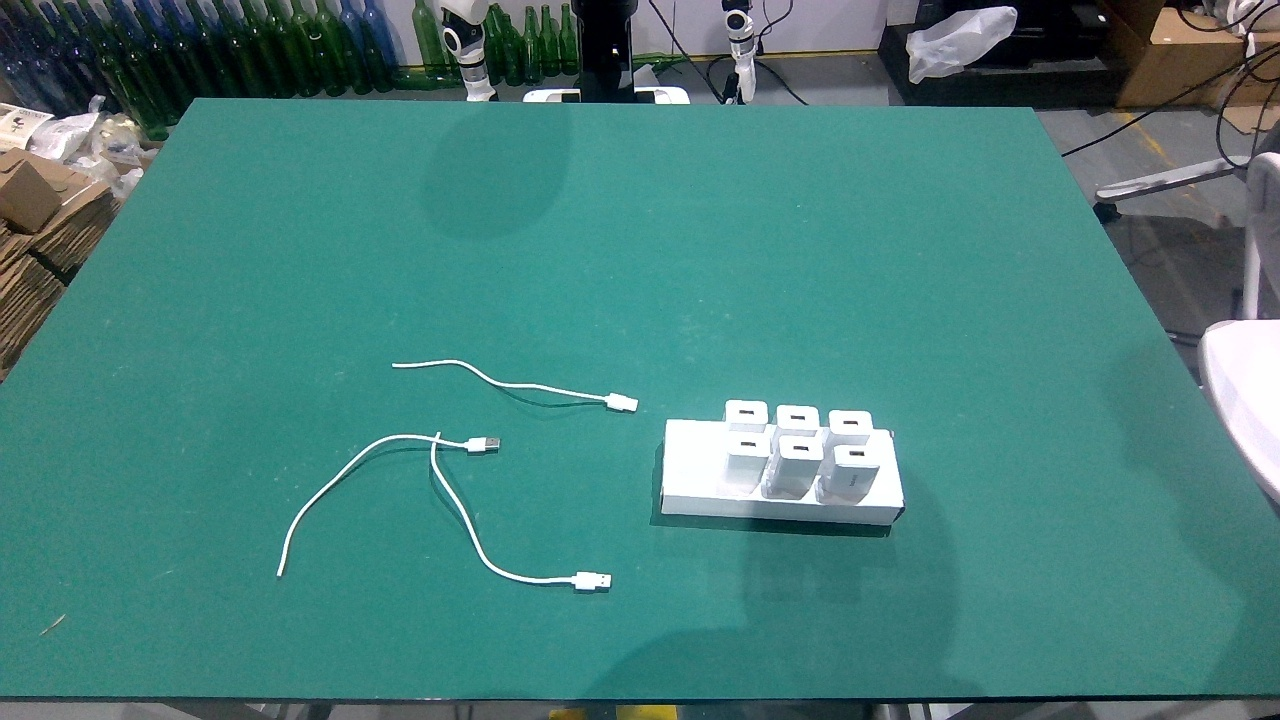usb_a_port: (791, 443, 811, 454), (846, 449, 867, 458), (739, 440, 758, 449), (738, 408, 756, 417), (789, 414, 808, 422), (841, 419, 859, 426)
